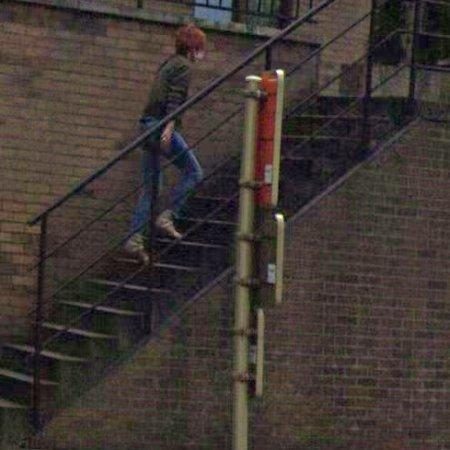stairs: (40, 155, 238, 423), (281, 95, 417, 211), (0, 345, 35, 450)
